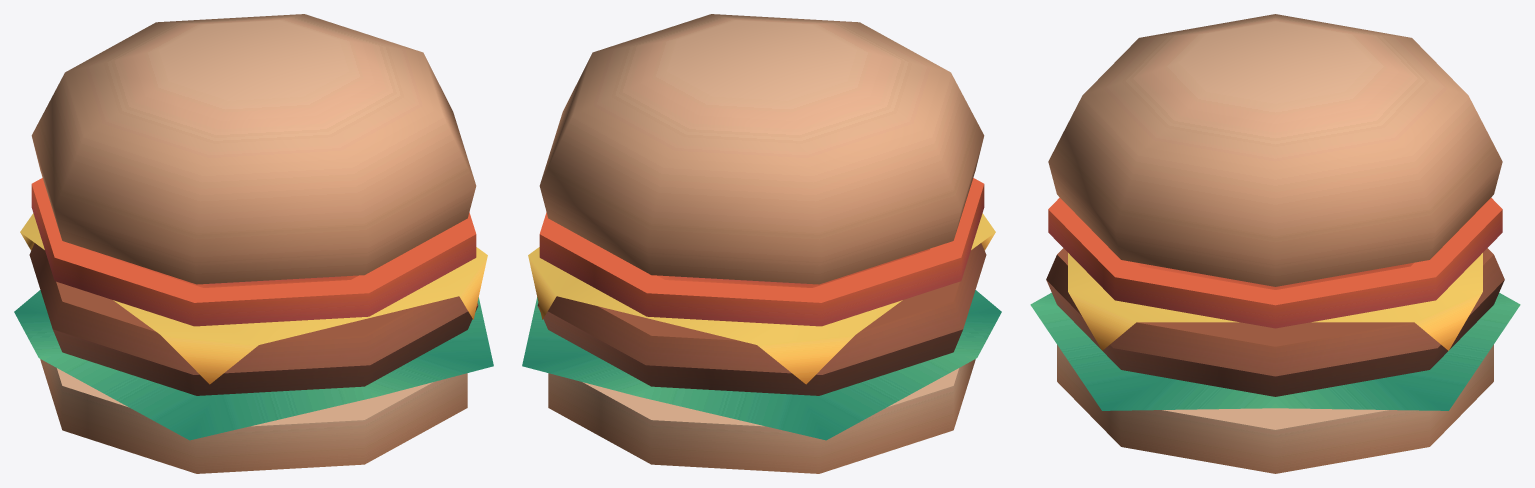
The model's file is burger.glb.
3 views of the same model, side by side, from view 1: azimuth 30°, elevation 25°; view 2: azimuth 150°, elevation 25°; view 3: azimuth 270°, elevation 25° (orthographic).
Parts seen in each view (by area): view 1: bun-top, patty, bun-bottom, tomato, salad, cheese; view 2: bun-top, patty, bun-bottom, tomato, salad, cheese; view 3: bun-top, patty, tomato, bun-bottom, salad, cheese.
Boxes of the visible parts, x1,y1,x2,y2 form: bun-top: (31,14,476,284); patty: (29,243,478,395); bun-bottom: (40,359,467,473); tomato: (31,178,476,326); salad: (14,290,493,440); cheese: (20,213,487,384); bun-top: (539,14,984,284); patty: (537,243,986,395); bun-bottom: (548,359,975,473); tomato: (539,178,984,326); salad: (522,290,1001,440); cheese: (528,213,995,384); bun-top: (1048,14,1502,286); patty: (1046,248,1504,396); tomato: (1048,197,1502,328); bun-bottom: (1057,344,1493,473); salad: (1030,292,1520,410); cheese: (1068,253,1482,350).
Size of the model in its own units: 0.4041 by 0.29 by 0.4041.
1 material, 1 textured.
